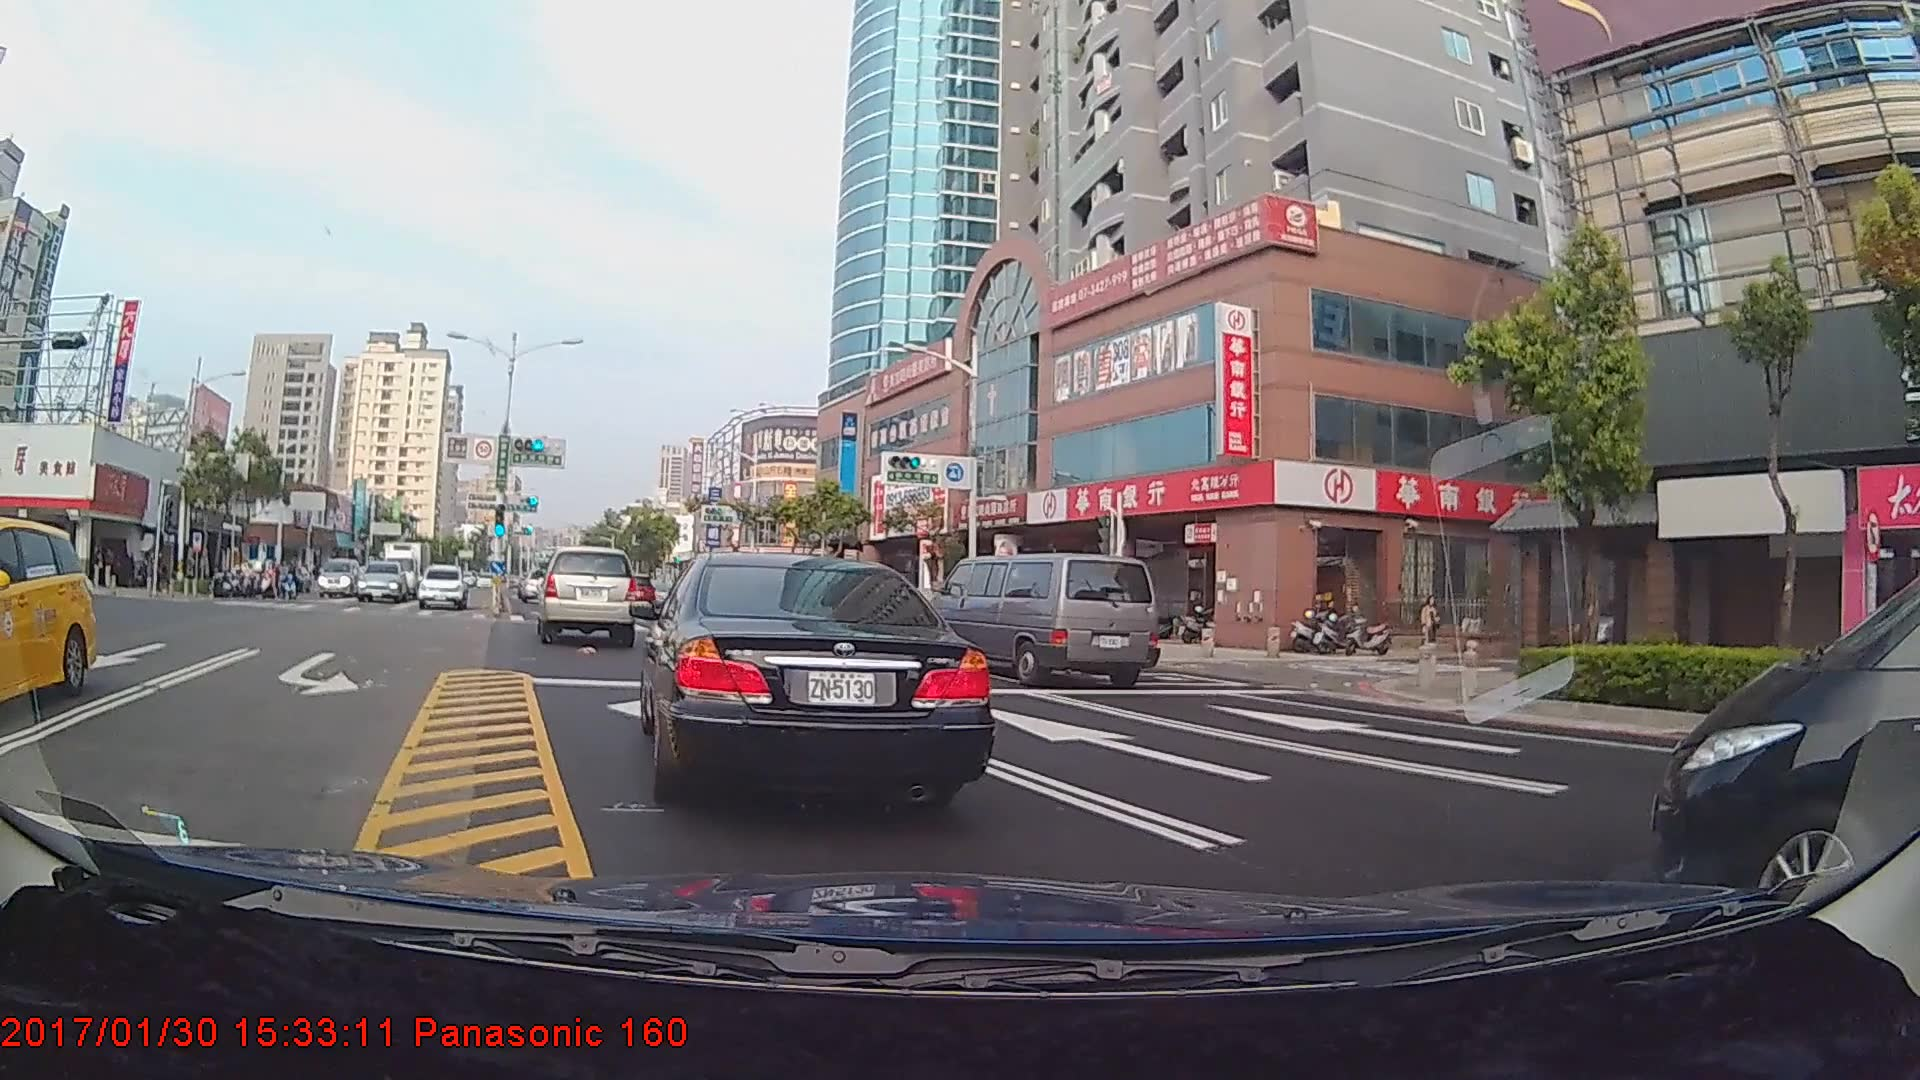pedestrian: (1418, 596, 1443, 660)
vehicle: (1648, 511, 1915, 895), (648, 545, 988, 803), (926, 552, 1156, 689), (0, 514, 95, 720), (537, 544, 636, 642), (382, 537, 437, 597), (418, 563, 467, 611), (357, 560, 408, 604), (316, 555, 361, 597), (517, 566, 555, 601)
